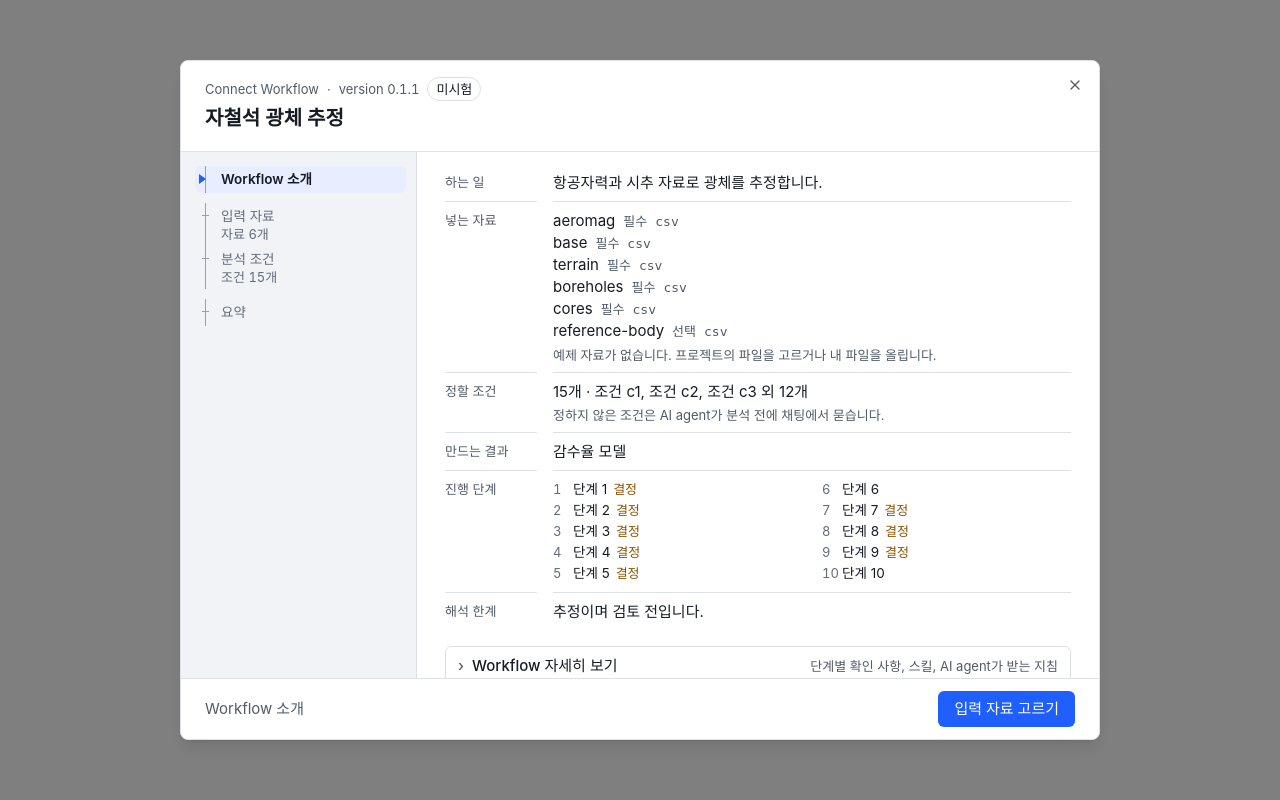
Test: start window by analysis-flow stage › keeps a Pocheon-like Workflow (6 inputs, 15 conditions, 10 steps) to four entries, sub-heading the conditions by step
This screenshot has width=1280, height=800.
What coordinates should you click on to do the following:
click the button "입력 자료 고르기"
I would click on:
 (1007, 709)
Its box is [938,691,1075,727].
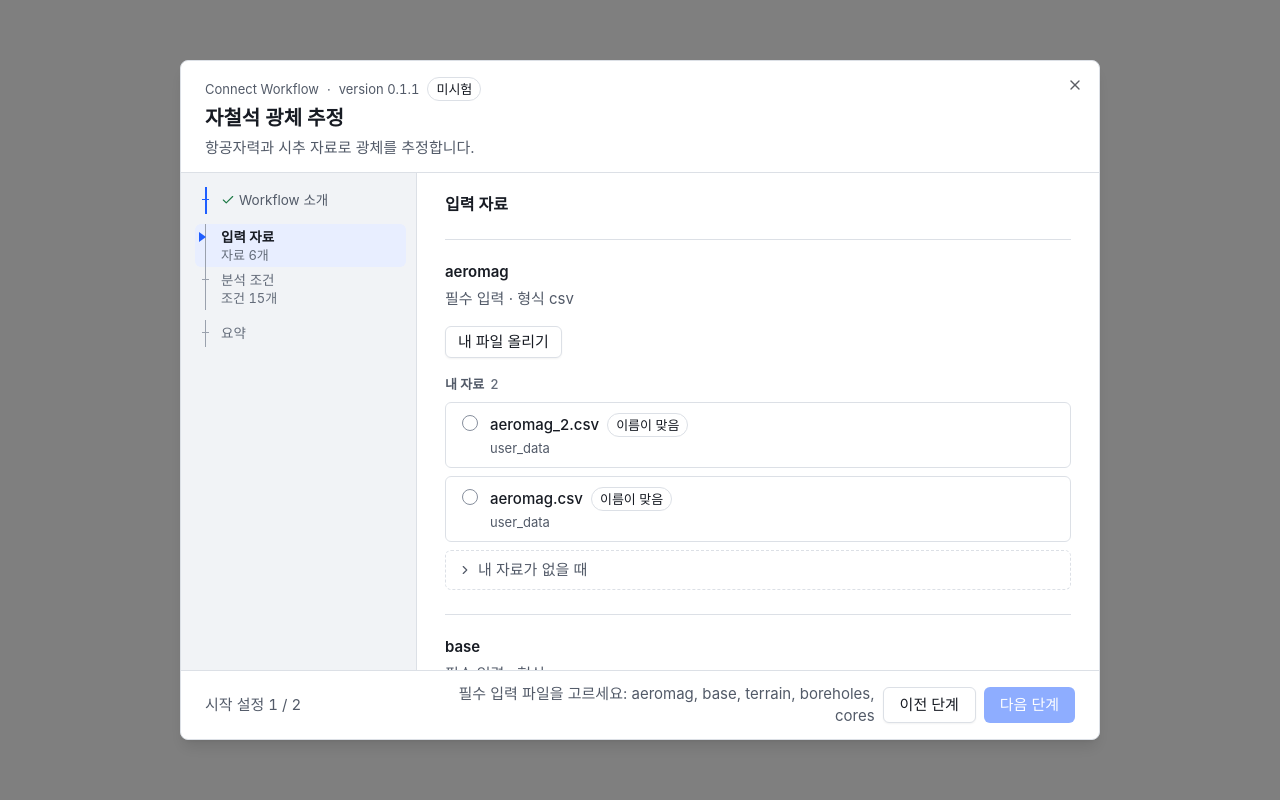
Check: the text "시작 설정 1 / 2" is shown, box [205,694,301,716]
Check: the button "다음 단계" is disabled, box [984,687,1075,723]
What coordinates should you click on to do the following:
click the tab with aria-label "3단계:"
I would click on:
 (300, 288)
Its box is [195,266,406,310].
(page scrolled)
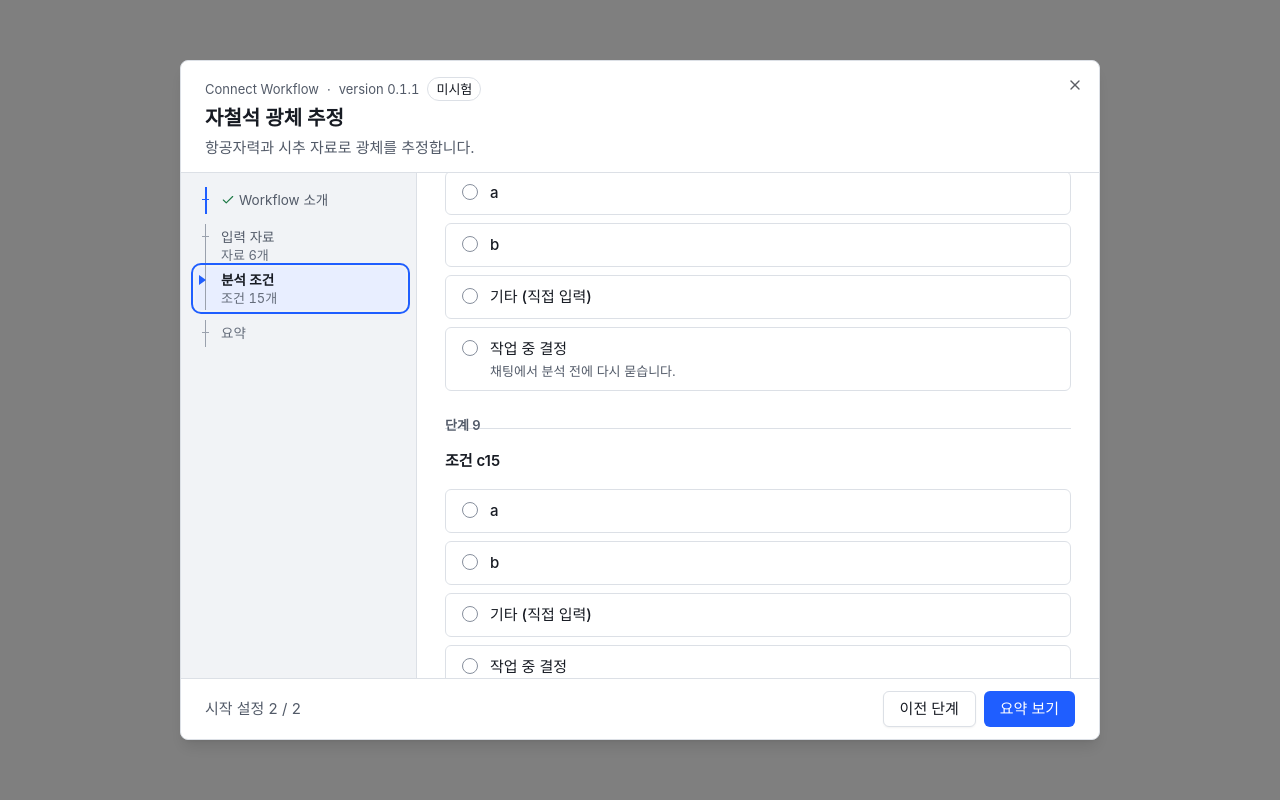
Check: the text "단계 6" is not shown
Check: the text "단계 9" is shown, box [445,417,480,433]
